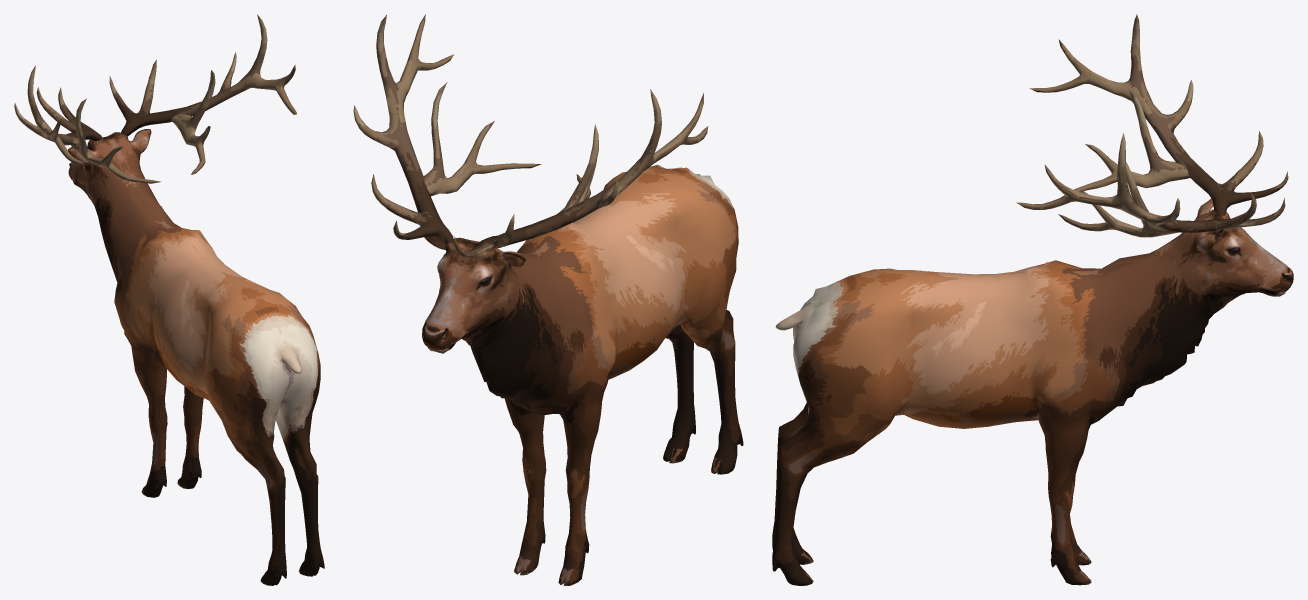
The model's file is elkt.glb.
The picture shows the model from 3 angles, left to right: view 1: azimuth 30°, elevation 25°; view 2: azimuth 150°, elevation 25°; view 3: azimuth 270°, elevation 25°; orthographic projection. The views are drawn at different scales.
Parts seen in each view (by area): view 1: sm_2_0_1-Body, Chifre, sm_2_0_1-HEad; view 2: sm_2_0_1-Body, Chifre, sm_2_0_1-HEad; view 3: sm_2_0_1-Body, Chifre, sm_2_0_1-HEad.
Part boxes in pixels (x1,y1,x2,y2): sm_2_0_1-Body: [94, 181, 324, 585]; Chifre: [14, 14, 296, 183]; sm_2_0_1-HEad: [68, 129, 151, 205]; sm_2_0_1-Body: [470, 164, 743, 585]; Chifre: [353, 14, 708, 257]; sm_2_0_1-HEad: [422, 235, 525, 353]; sm_2_0_1-Body: [772, 244, 1214, 585]; Chifre: [1016, 14, 1288, 237]; sm_2_0_1-HEad: [1163, 198, 1293, 313].
Size of the model in its own units: 1.36 by 2.41 by 2.28.
Materials: 4 (4 with a texture image).
